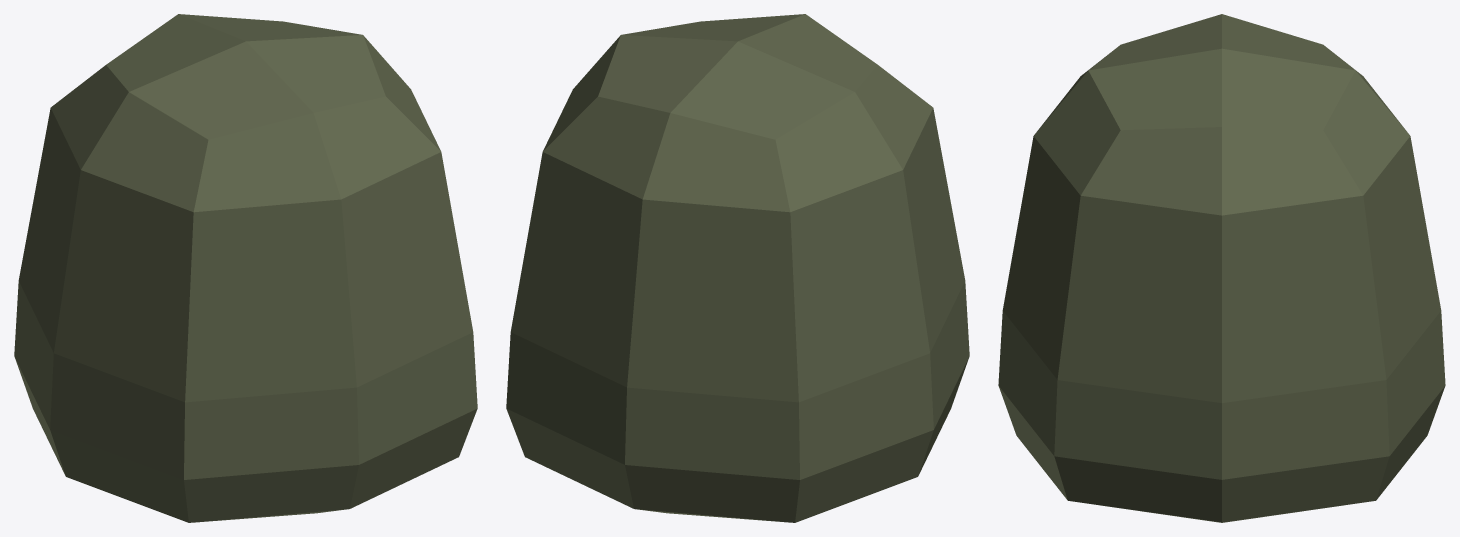
The model's file is lettuce-crop-6d36f90980.glb.
The picture shows the model from 3 angles, left to right: view 1: azimuth 30°, elevation 25°; view 2: azimuth 150°, elevation 25°; view 3: azimuth 270°, elevation 25°; orthographic projection.
Visible parts, largest first — view 1: Lettuce_Crop.obj; view 2: Lettuce_Crop.obj; view 3: Lettuce_Crop.obj.
Boxes of the visible parts, x1,y1,x2,y2 form: Lettuce_Crop.obj: (14, 14, 477, 522); Lettuce_Crop.obj: (506, 14, 969, 522); Lettuce_Crop.obj: (998, 14, 1445, 522).
Bounding box in the file's own units: 0.4043 × 0.4238 × 0.4043.
